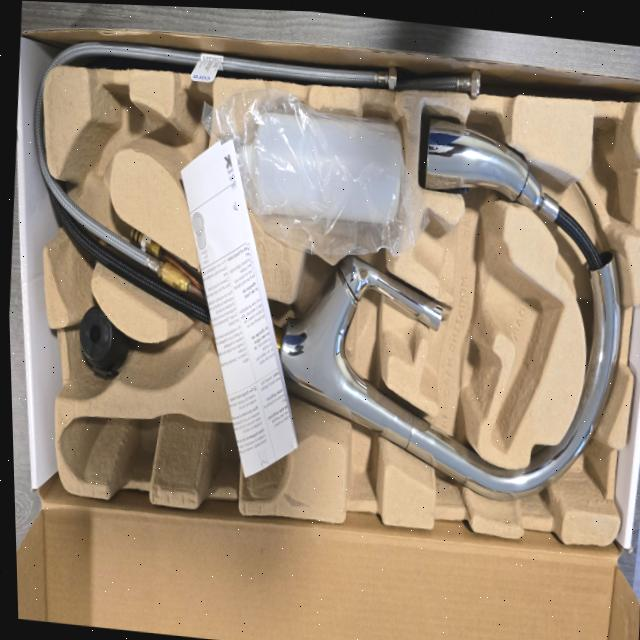1o: (55, 119, 622, 495)
2m: (411, 211, 563, 454)
3o: (225, 106, 402, 226)
4m: (61, 411, 289, 500)
5: (79, 302, 127, 377)
6m: (72, 85, 146, 178)
7m: (155, 87, 223, 222)
8: (180, 132, 298, 475)
